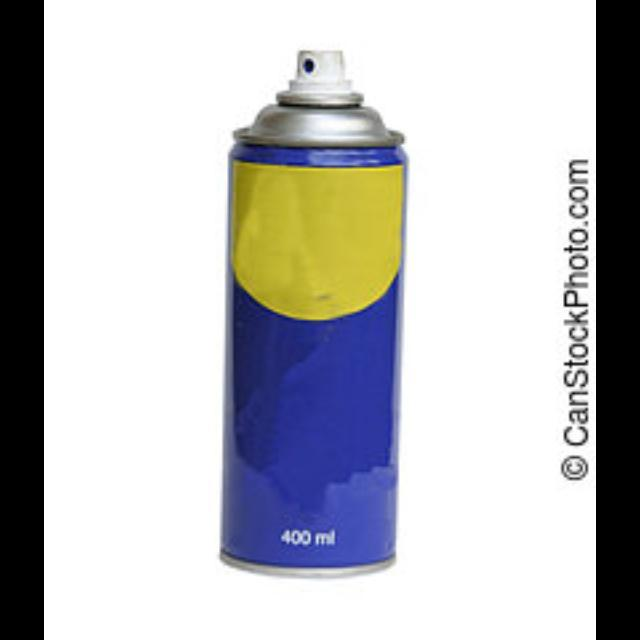chemical_spray_can: (212, 37, 430, 596)
